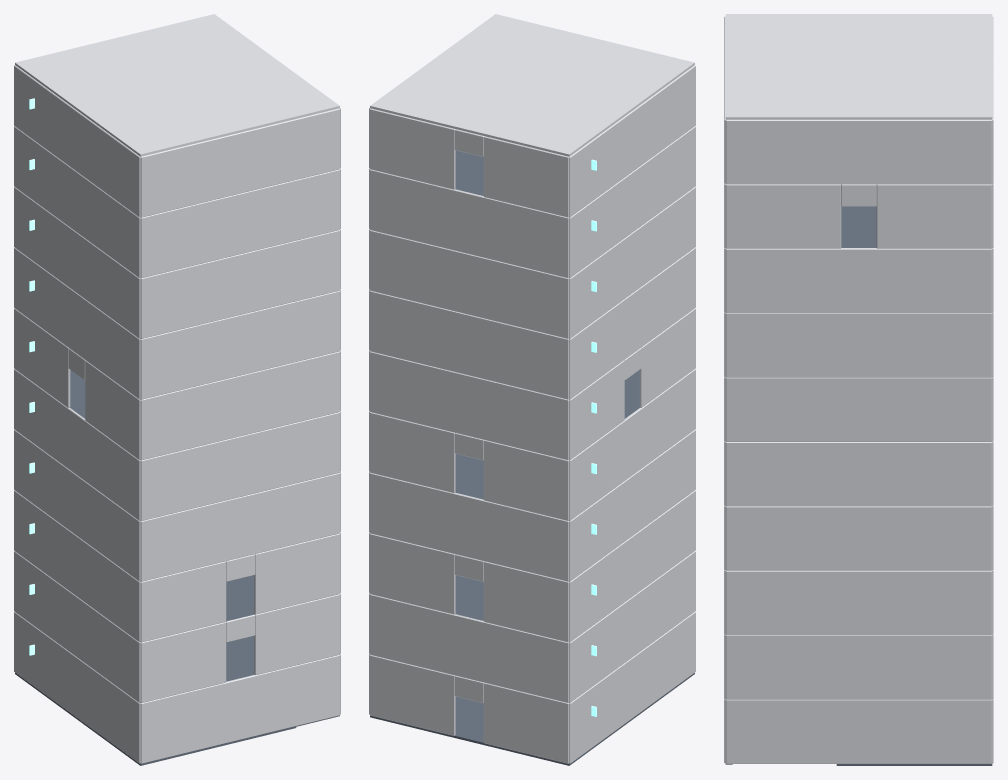
The model's file is stairwell-aft.glb.
The picture shows the model from 3 angles, left to right: view 1: azimuth 30°, elevation 25°; view 2: azimuth 150°, elevation 25°; view 3: azimuth 270°, elevation 25°; orthographic projection. The views are drawn at different scales.
Visible parts, largest first — view 1: CM_BULKHEAD, CM_DECK, CM_NEON_CYAN; view 2: CM_BULKHEAD, CM_DECK, CM_NEON_CYAN; view 3: CM_BULKHEAD, CM_DECK.
Boxes of the visible parts, left/top/right/bottom form: CM_BULKHEAD: left=14, top=14, right=340, bottom=763; CM_DECK: left=15, top=217, right=339, bottom=765; CM_NEON_CYAN: left=29, top=98, right=34, bottom=655; CM_BULKHEAD: left=369, top=14, right=695, bottom=763; CM_DECK: left=370, top=150, right=694, bottom=765; CM_NEON_CYAN: left=591, top=159, right=596, bottom=716; CM_BULKHEAD: left=724, top=14, right=993, bottom=763; CM_DECK: left=725, top=184, right=992, bottom=765.
Size of the model in its own units: 11.42 by 32.24 by 12.14.
